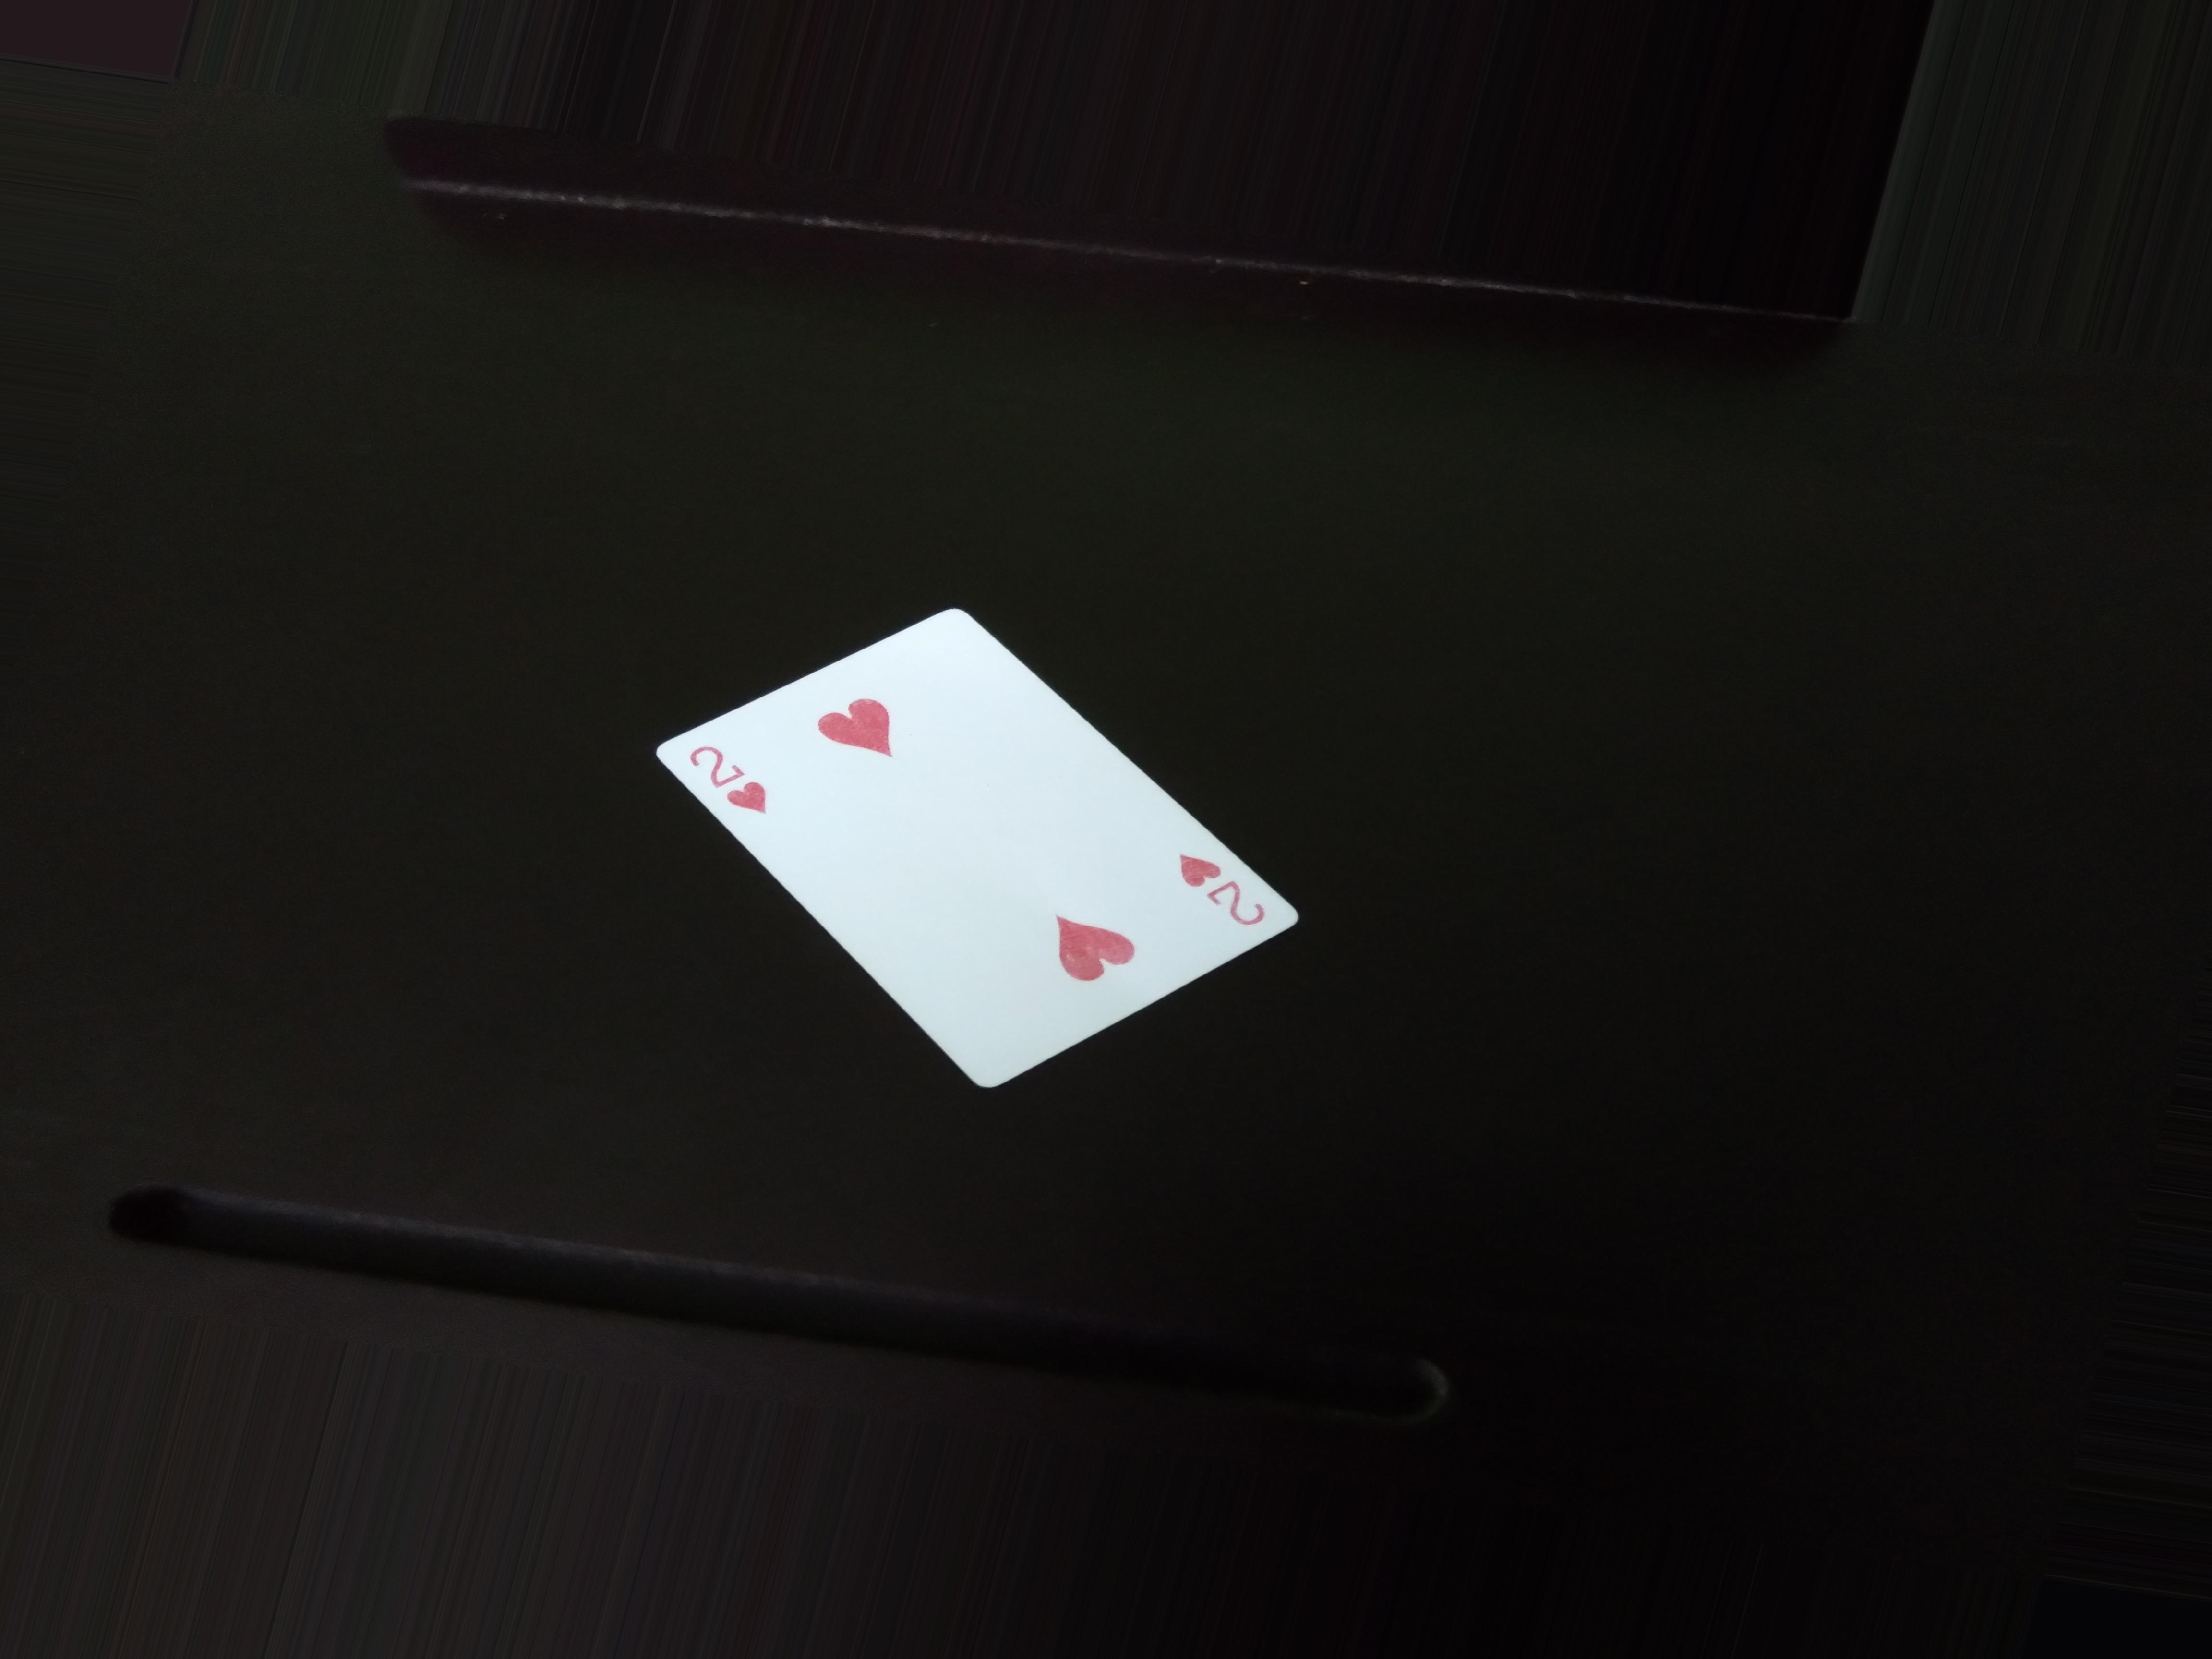2H: (671, 732, 806, 840)
